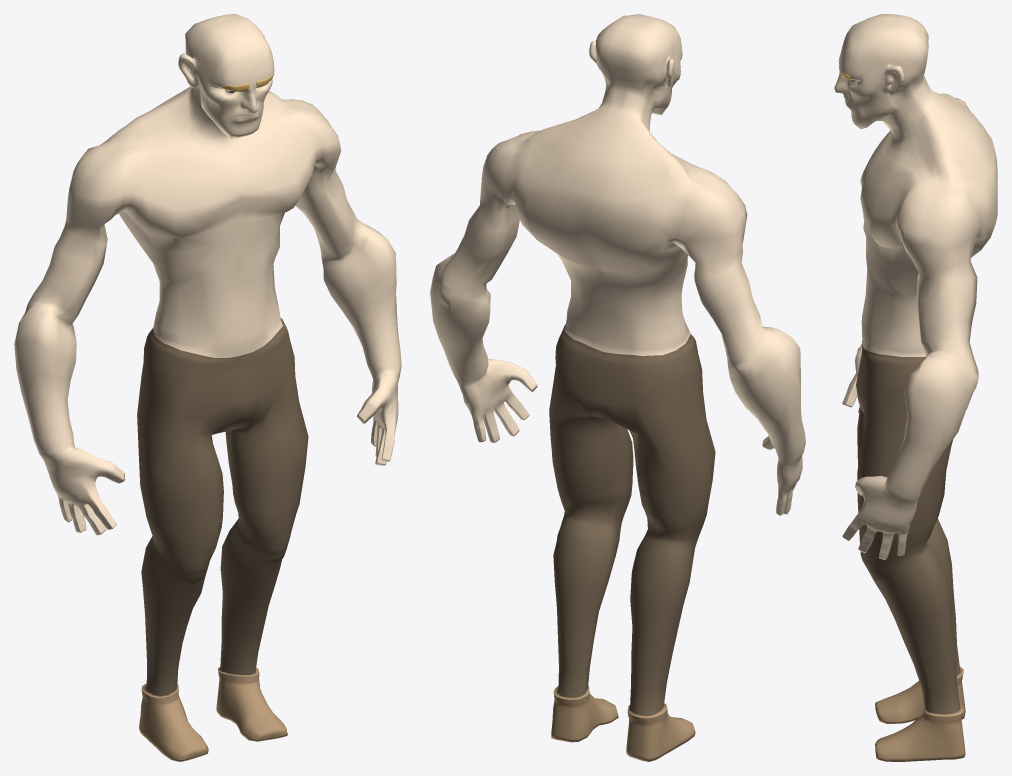
File: Player_low.fbx
3 views of the same model, side by side, from view 1: azimuth 30°, elevation 25°; view 2: azimuth 150°, elevation 25°; view 3: azimuth 270°, elevation 25° (orthographic). The views are drawn at different scales.
Visible parts, largest first — view 1: Keho; view 2: Keho; view 3: Keho.
Part boxes in pixels (<box>): Keho: <box>14,14,401,761</box>; Keho: <box>430,14,805,761</box>; Keho: <box>834,14,997,761</box>.
Bounding box in the file's own units: 100 × 185 × 38.45.
